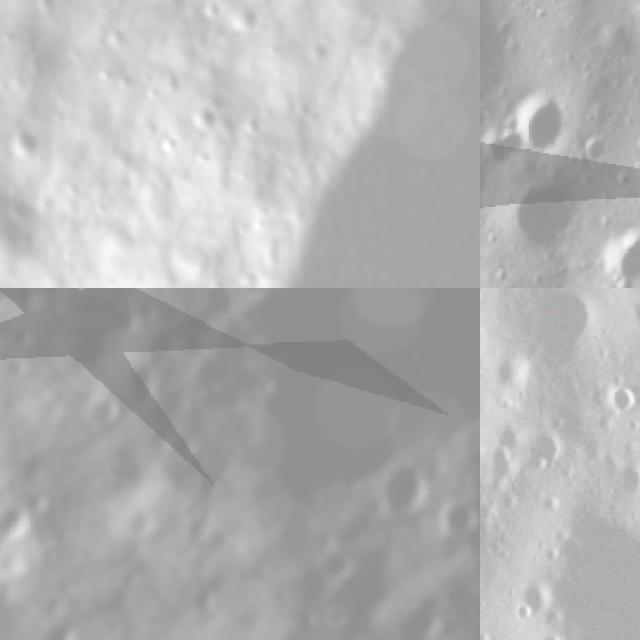crater: (0, 393, 81, 640), (525, 492, 640, 640), (489, 288, 615, 381), (362, 445, 453, 536), (83, 431, 172, 520), (103, 348, 178, 424), (512, 178, 578, 251), (426, 484, 480, 559), (13, 597, 99, 640), (515, 92, 567, 163), (73, 383, 133, 443), (0, 489, 46, 558), (522, 424, 574, 484), (489, 344, 538, 402), (177, 574, 230, 626), (446, 570, 480, 640), (512, 572, 559, 622), (0, 349, 42, 396), (0, 314, 43, 359), (551, 524, 591, 567), (601, 377, 640, 421), (611, 229, 640, 288), (480, 498, 501, 571), (612, 455, 640, 506), (214, 288, 261, 312), (12, 120, 36, 162), (496, 487, 526, 518), (161, 59, 183, 96), (92, 56, 116, 88), (625, 293, 640, 340), (232, 10, 258, 36), (196, 0, 223, 20), (290, 100, 314, 120), (531, 628, 571, 640), (31, 0, 59, 17), (11, 198, 33, 219), (159, 137, 180, 159), (0, 21, 18, 46), (138, 122, 158, 140), (193, 148, 210, 169), (601, 288, 640, 297), (143, 87, 162, 104), (250, 218, 267, 235), (118, 72, 135, 88), (136, 72, 156, 85), (5, 182, 22, 197), (633, 494, 640, 528)
